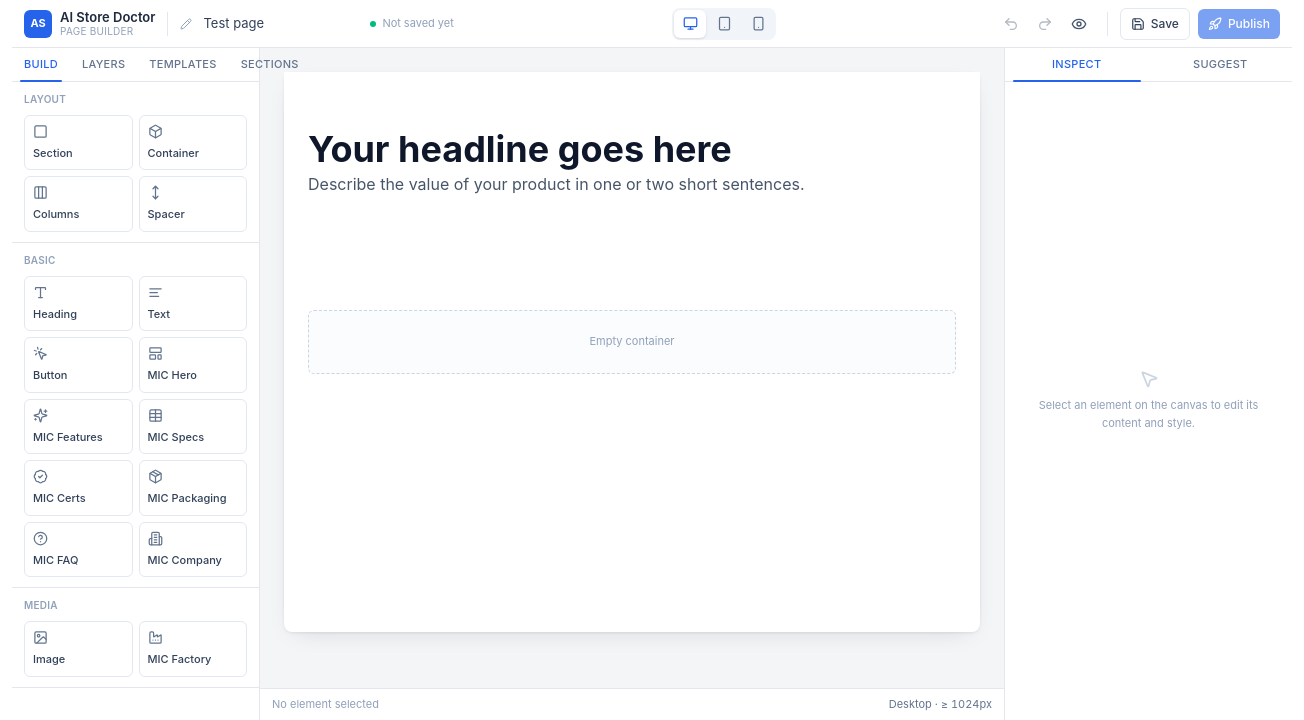
renames across slow typing as one undo step, then saves the redone document
Replace the text in the field named "Page name" with "New" at (278, 24), box [198, 11, 358, 36]
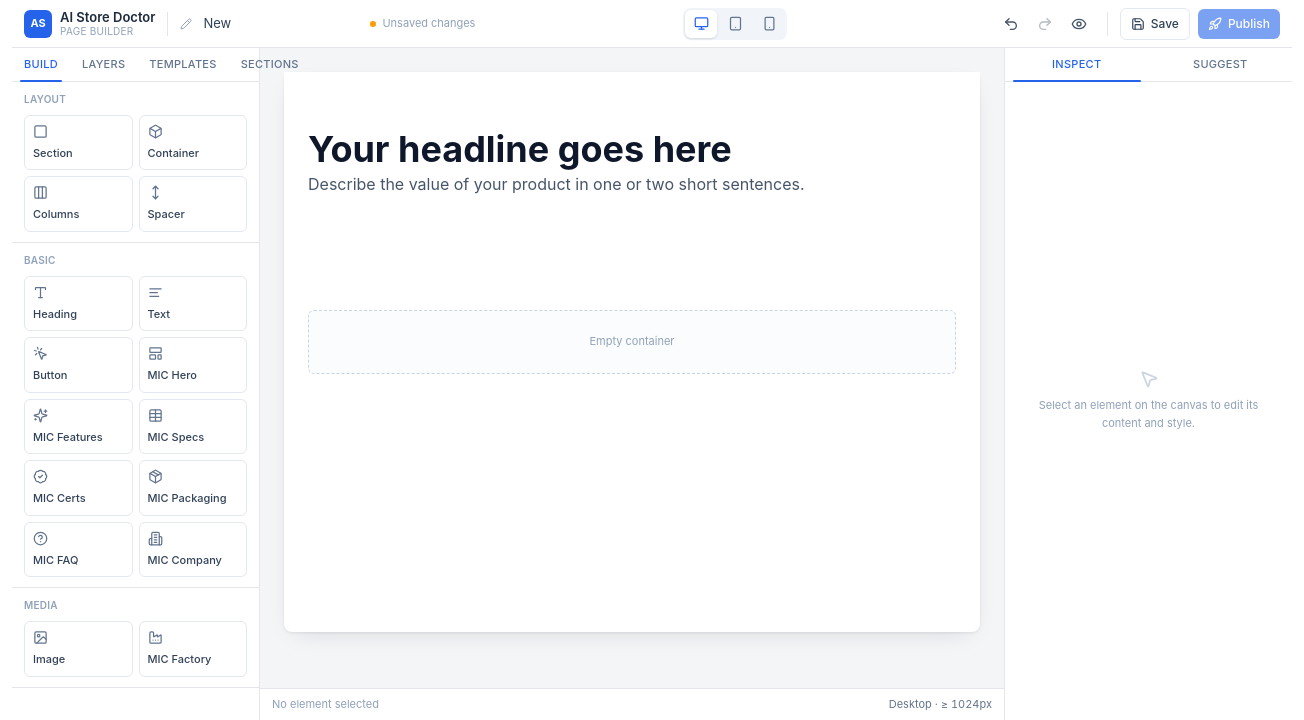
Replace the text in the field named "Page name" with "New page" at (278, 24), box [198, 11, 358, 36]
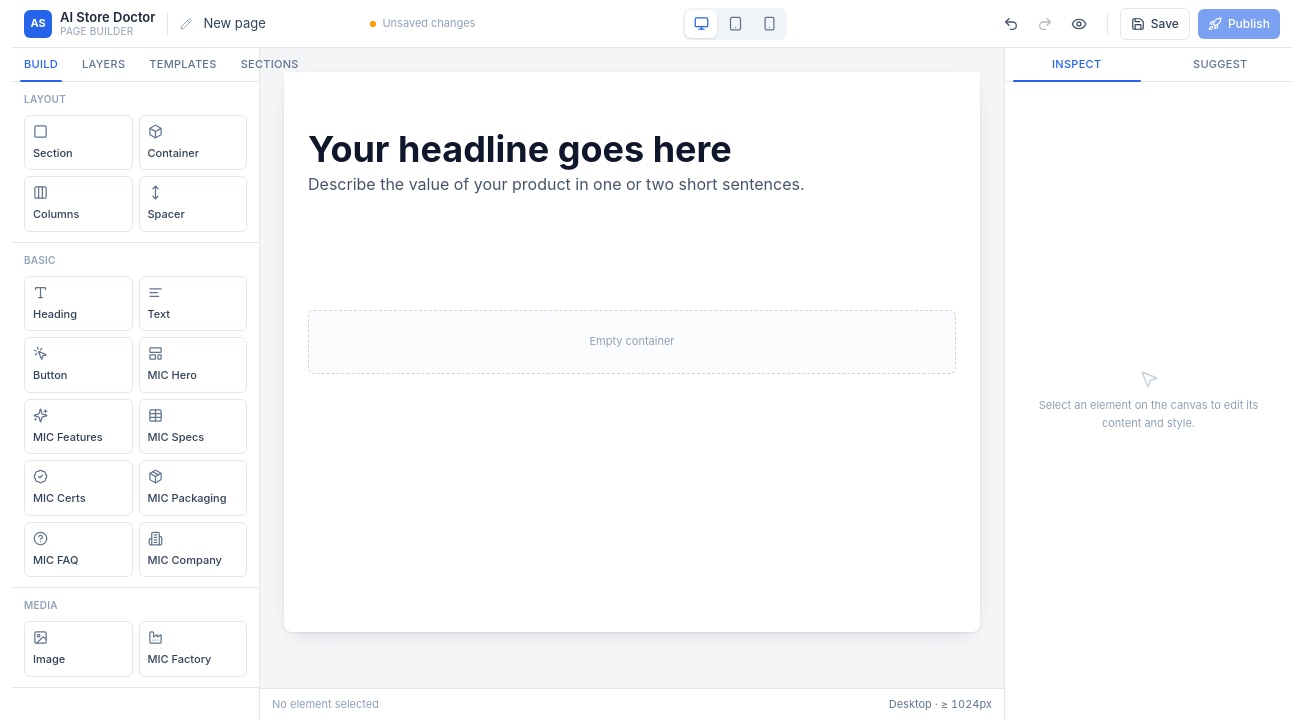
Click the button named "Undo" at (1011, 24), box [995, 8, 1027, 40]
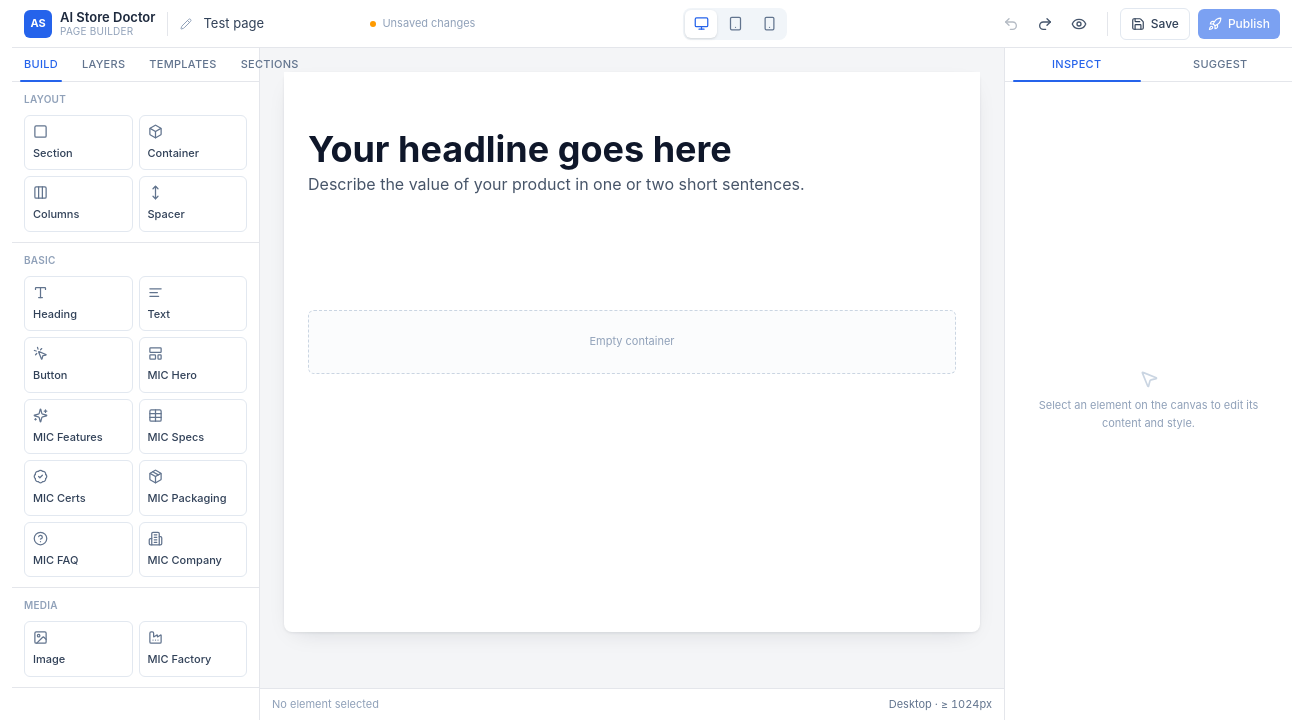
Check: the field named "Page name" holds "Test page", box [198, 11, 358, 36]
Click the button named "Redo" at (1045, 24), box [1029, 8, 1061, 40]
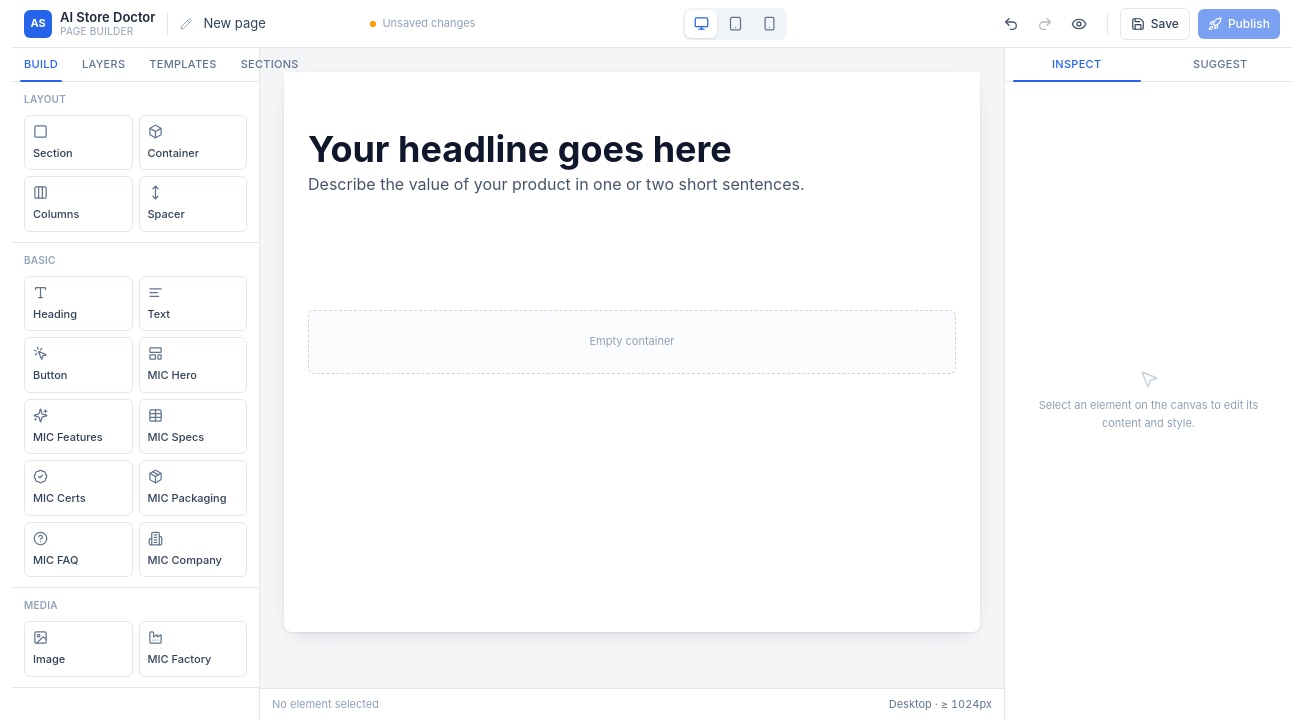
Click the button "Save" at (1155, 24), box [1120, 8, 1190, 40]
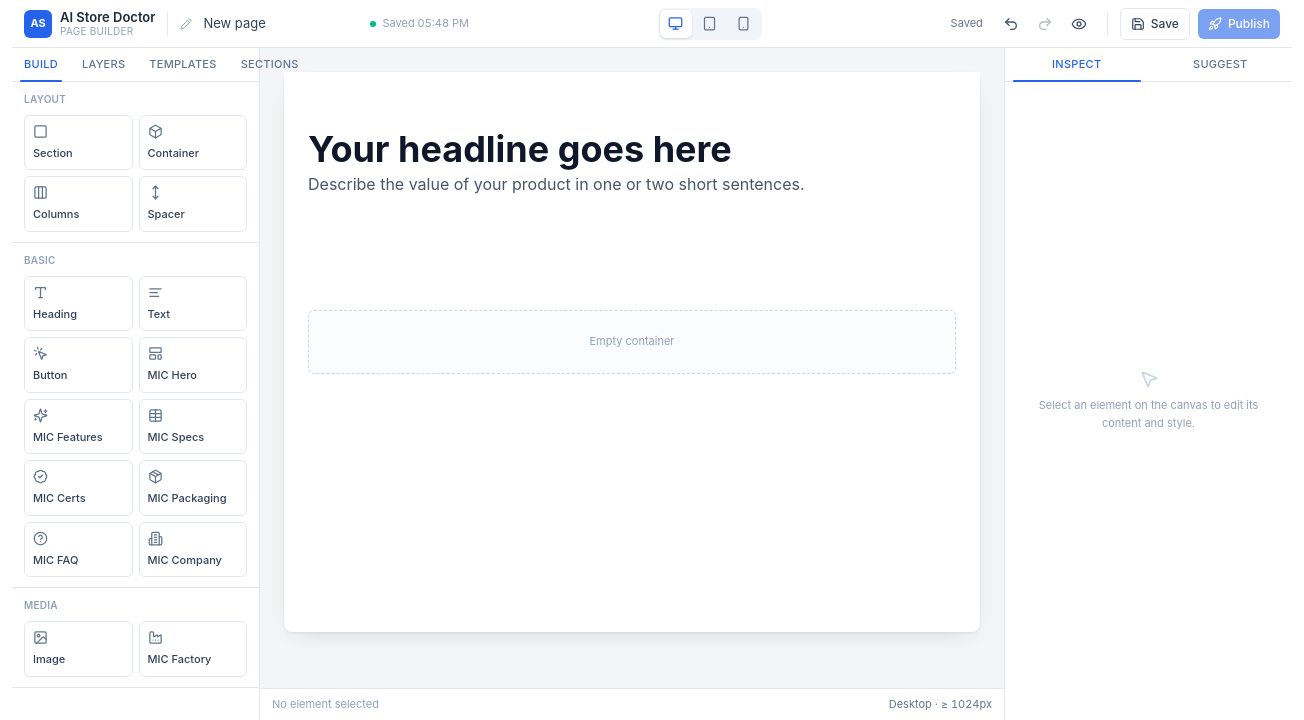
Check: the message named "Editor notice" reads "Saved", box [951, 16, 983, 30]
